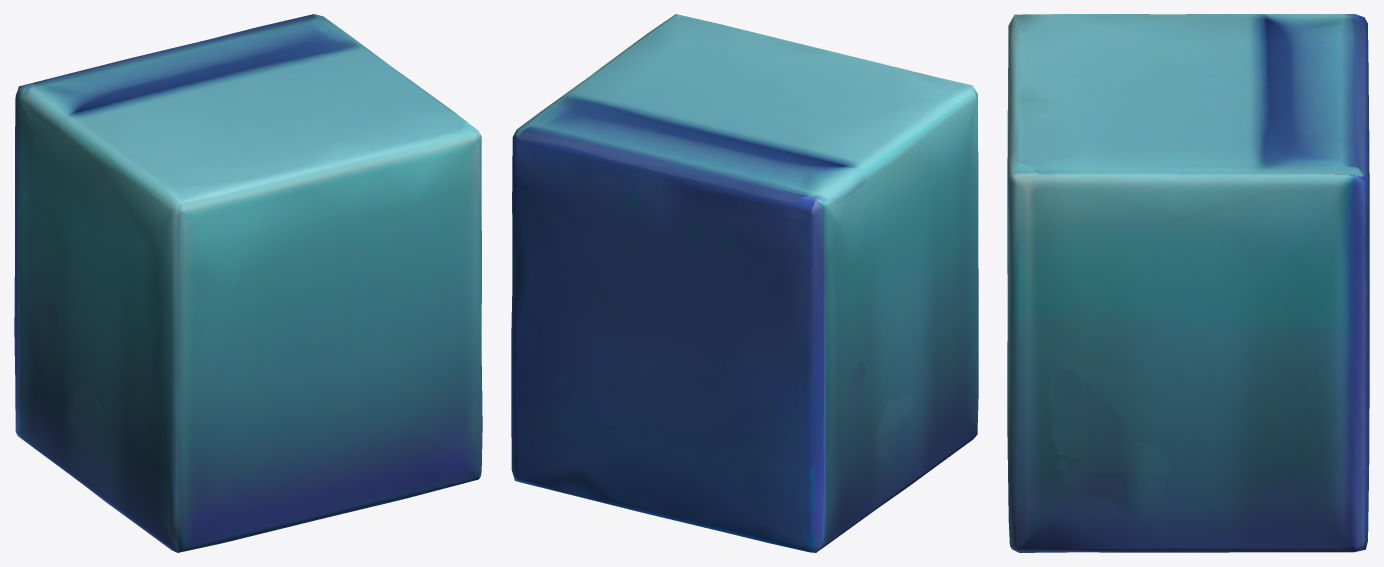
The model's file is BackgroundPlane.glb.
3 renders of one model, left to right at view 1: azimuth 30°, elevation 25°; view 2: azimuth 150°, elevation 25°; view 3: azimuth 270°, elevation 25°, orthographic. The views are drawn at different scales.
Bounding box in the file's own units: 1.85 × 2.01 × 1.72.
1 material, 1 textured.
